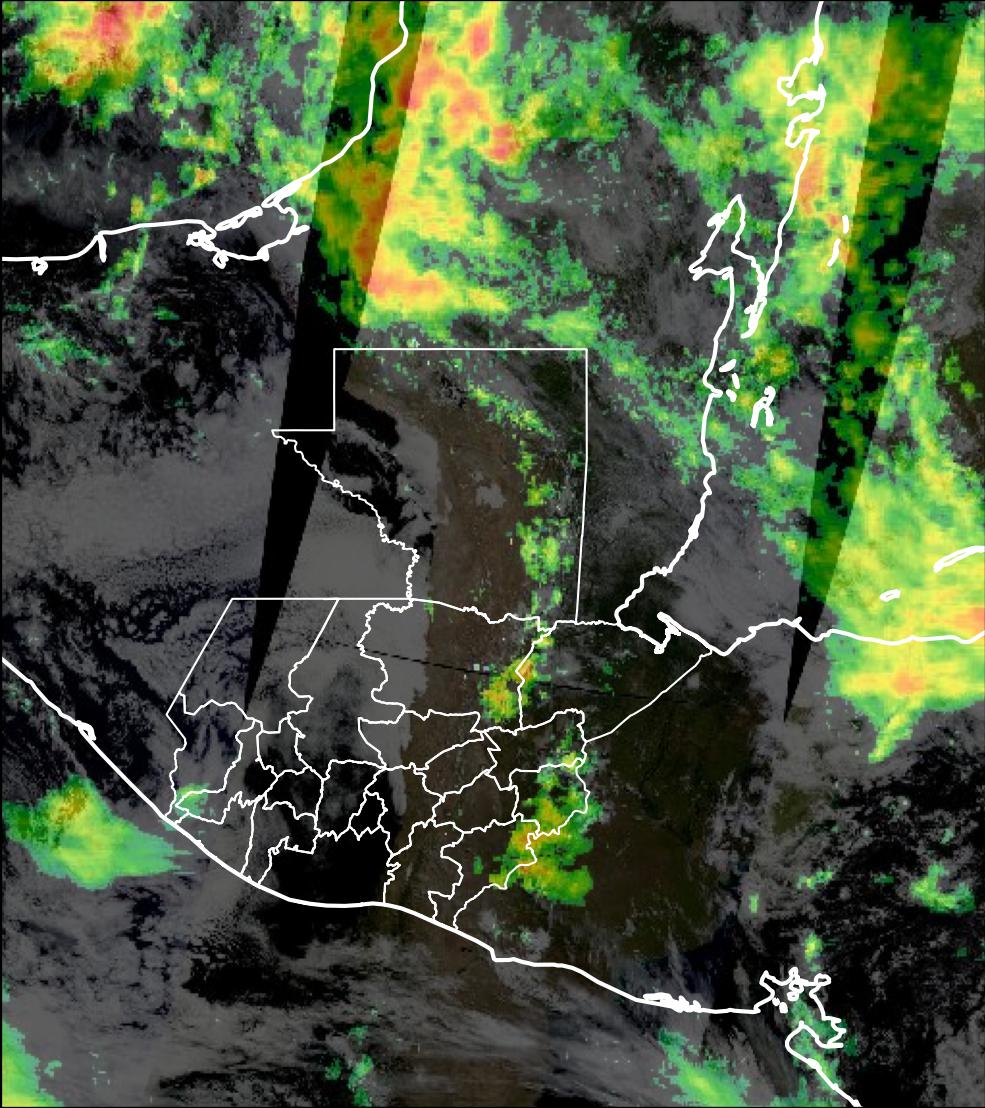precipitacion: (387, 53, 523, 163), (62, 1, 157, 76)
